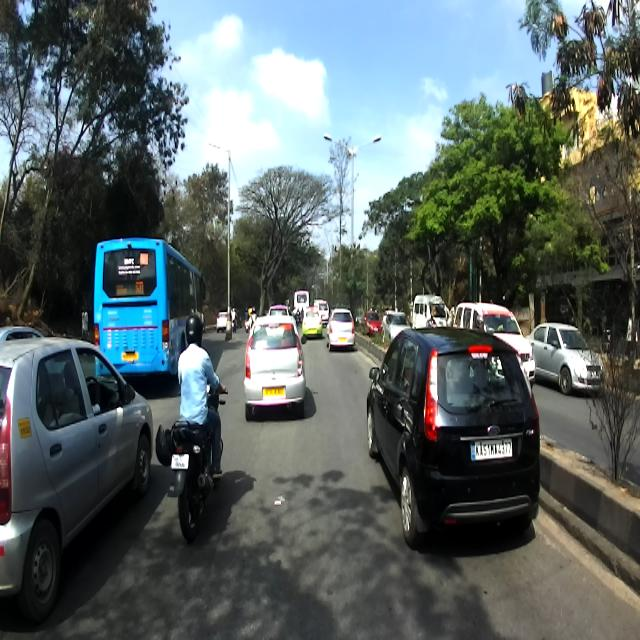car ahead at: (0, 324, 154, 601), (364, 317, 546, 547), (242, 317, 312, 421)
motorcycle ahead at: (156, 421, 230, 536)
